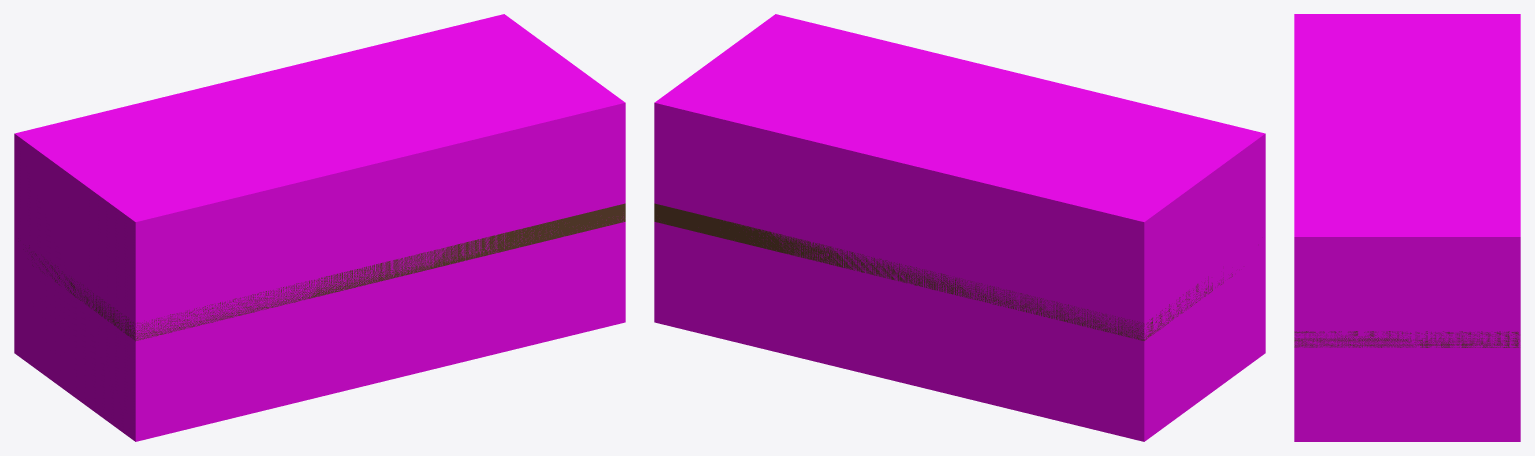
Rendered from PRP_Cloth_Rolls_A.glb.
The picture shows the model from 3 angles, left to right: view 1: azimuth 30°, elevation 25°; view 2: azimuth 150°, elevation 25°; view 3: azimuth 270°, elevation 25°; orthographic projection. The views are drawn at different scales.
Parts seen in each view (by area): view 1: COL_Bench, PRP_Cloth_Rolls_A_Mesh; view 2: COL_Bench, PRP_Cloth_Rolls_A_Mesh; view 3: COL_Bench, PRP_Cloth_Rolls_A_Mesh.
Boxes of the visible parts, bbox=[...] form: COL_Bench: bbox=[14, 14, 625, 441]; PRP_Cloth_Rolls_A_Mesh: bbox=[23, 203, 625, 341]; COL_Bench: bbox=[654, 14, 1265, 441]; PRP_Cloth_Rolls_A_Mesh: bbox=[654, 203, 1232, 340]; COL_Bench: bbox=[1294, 14, 1520, 441]; PRP_Cloth_Rolls_A_Mesh: bbox=[1294, 331, 1519, 347].
Size of the model in its own units: 1.4 by 0.6 by 0.6.
